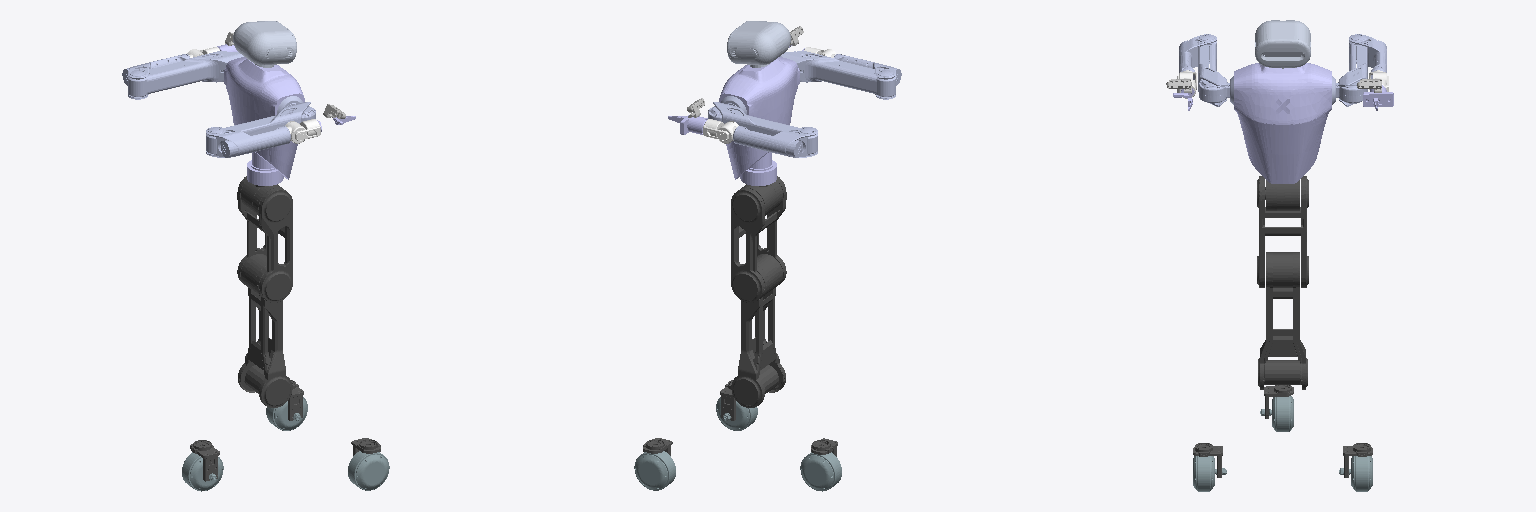
--- What the picture shows (computed from the rendered views, not written in the file) ---
Views: 3 orthographic renders of the robot side by side, from view 1: azimuth 30°, elevation 25°; view 2: azimuth 150°, elevation 25°; view 3: azimuth 270°, elevation 25°.
Robot: r1_v2_1_0 — 34 links, 33 joints (19 revolute, 3 continuous, 4 prismatic, 7 fixed); root link base_link; default pose: all joints at 0.
Visible links, largest first — view 1: torso_link4, torso_link1, torso_link2, left_arm_link2, zed_link, right_arm_link3, wheel_motor_link2, right_arm_link2, wheel_motor_link3, wheel_motor_link1, steer_motor_link3, left_arm_link3 (+1 smaller); view 2: torso_link4, torso_link1, torso_link2, right_arm_link2, zed_link, left_arm_link3, wheel_motor_link1, wheel_motor_link3, left_arm_link2, wheel_motor_link2, right_arm_link3, torso_link3; view 3: torso_link4, torso_link1, zed_link, torso_link2, torso_link3, right_arm_link2, left_arm_link2, wheel_motor_link3, wheel_motor_link1, wheel_motor_link2, left_arm_link3, right_arm_link3 (+1 smaller).
Link boxes in pixels (x1=…): torso_link4: x1=224, y1=57, x2=304, y2=185; torso_link1: x1=238, y1=254, x2=292, y2=407; torso_link2: x1=237, y1=176, x2=292, y2=302; left_arm_link2: x1=128, y1=51, x2=243, y2=96; zed_link: x1=233, y1=21, x2=296, y2=67; right_arm_link3: x1=206, y1=126, x2=290, y2=157; wheel_motor_link2: x1=348, y1=451, x2=389, y2=490; right_arm_link2: x1=206, y1=102, x2=310, y2=154; wheel_motor_link3: x1=182, y1=452, x2=223, y2=491; wheel_motor_link1: x1=266, y1=397, x2=307, y2=430; steer_motor_link3: x1=190, y1=440, x2=219, y2=481; left_arm_link3: x1=122, y1=54, x2=189, y2=99; torso_link4: x1=719, y1=57, x2=799, y2=185; torso_link1: x1=731, y1=254, x2=785, y2=407; torso_link2: x1=731, y1=176, x2=786, y2=302; right_arm_link2: x1=780, y1=51, x2=895, y2=96; zed_link: x1=727, y1=21, x2=790, y2=67; left_arm_link3: x1=733, y1=126, x2=817, y2=157; wheel_motor_link1: x1=634, y1=451, x2=675, y2=490; wheel_motor_link3: x1=800, y1=452, x2=841, y2=491; left_arm_link2: x1=713, y1=102, x2=817, y2=154; wheel_motor_link2: x1=716, y1=397, x2=757, y2=430; right_arm_link3: x1=834, y1=54, x2=901, y2=99; torso_link3: x1=741, y1=180, x2=782, y2=215; torso_link4: x1=1234, y1=63, x2=1331, y2=183; torso_link1: x1=1258, y1=252, x2=1307, y2=389; zed_link: x1=1255, y1=20, x2=1310, y2=68; torso_link2: x1=1257, y1=176, x2=1308, y2=287; torso_link3: x1=1265, y1=180, x2=1299, y2=210; right_arm_link2: x1=1198, y1=41, x2=1226, y2=106; left_arm_link2: x1=1339, y1=41, x2=1367, y2=106; wheel_motor_link3: x1=1260, y1=396, x2=1293, y2=431; wheel_motor_link1: x1=1339, y1=456, x2=1372, y2=491; wheel_motor_link2: x1=1193, y1=456, x2=1226, y2=491; left_arm_link3: x1=1349, y1=34, x2=1386, y2=78; right_arm_link3: x1=1179, y1=34, x2=1216, y2=79.
Size in the robot's own frame: 0.7034 by 0.8049 by 1.7 metres.
30 mesh visuals loaded from 34 distinct referenced files (30 binary STL); not drawn: 4 (reference not matched to a file when rendering).

robot.urdf — r1_v2_1_0:
<?xml version="1.0" encoding="utf-8"?>
<!-- This URDF was automatically created by SolidWorks to URDF Exporter! Originally created by Stephen Brawner ([email redacted]) 
     Commit Version: 1.6.0-4-g7f85cfe  Build Version: 1.6.7995.38578
     For more information, please see http://wiki.ros.org/sw_urdf_exporter -->
<robot
  name="r1_v2_1_0">
  <link
    name="base_link">
    <inertial>
      <origin
        xyz="-0.0024126 -8.9626E-05 0.13736"
        rpy="0 0 0" />
      <mass
        value="47.63" />
      <inertia
        ixx="1.578"
        ixy="-1.2021E-05"
        ixz="0.053642"
        iyy="1.462"
        iyz="7.297E-06"
        izz="2.8318" />
    </inertial>
    <visual>
      <origin
        xyz="0 0 0"
        rpy="0 0 0" />
      <geometry>
        <mesh
          filename="package://r1_v2_1_0/meshes/base_link.STL" />
      </geometry>
      <material
        name="">
        <color
          rgba="0.82353 0.82353 1 1" />
      </material>
    </visual>
    <collision>
      <origin
        xyz="0 0 0"
        rpy="0 0 0" />
      <geometry>
        <mesh
          filename="package://r1_v2_1_0/meshes/base_link.STL" />
      </geometry>
    </collision>
  </link>
  <link
    name="steer_motor_link1">
    <inertial>
      <origin
        xyz="0.00098921 -0.034312 -0.034597"
        rpy="0 0 0" />
      <mass
        value="1.2" />
      <inertia
        ixx="8.8522E-05"
        ixy="-3.7755E-06"
        ixz="4.5456E-09"
        iyy="7.5352E-05"
        iyz="-7.0316E-07"
        izz="0.00010165" />
    </inertial>
    <visual>
      <origin
        xyz="0 0 0"
        rpy="0 0 0" />
      <geometry>
        <mesh
          filename="package://r1_v2_1_0/meshes/steer_motor_link1.STL" />
      </geometry>
      <material
        name="">
        <color
          rgba="0.4 0.4 0.4 1" />
      </material>
    </visual>
    <collision>
      <origin
        xyz="0 0 0"
        rpy="0 0 0" />
      <geometry>
        <mesh
          filename="package://r1_v2_1_0/meshes/steer_motor_link1.STL" />
      </geometry>
    </collision>
  </link>
  <joint
    name="steer_motor_joint1"
    type="revolute">
    <origin
      xyz="0.21516 0.28 0.12375"
      rpy="0 0 0" />
    <parent
      link="base_link" />
    <child
      link="steer_motor_link1" />
    <axis
      xyz="0 0 1" />
    <limit
      lower="-1.5708"
      upper="1.5708"
      effort="44"
      velocity="3.1416" />
  </joint>
  <link
    name="wheel_motor_link1">
    <inertial>
      <origin
        xyz="-2.6184E-06 0.0015607 1.6575E-07"
        rpy="0 0 0" />
      <mass
        value="5" />
      <inertia
        ixx="0.00089952"
        ixy="6.916E-08"
        ixz="7.5501E-10"
        iyy="0.0015854"
        iyz="7.6011E-12"
        izz="0.00089958" />
    </inertial>
    <visual>
      <origin
        xyz="0 0 0"
        rpy="0 0 0" />
      <geometry>
        <mesh
          filename="package://r1_v2_1_0/meshes/wheel_motor_link1.STL" />
      </geometry>
      <material
        name="">
        <color
          rgba="0.59608 0.66667 0.68627 1" />
      </material>
    </visual>
    <collision>
      <origin
        xyz="0 0 0"
        rpy="0 0 0" />
      <geometry>
        <mesh
          filename="package://r1_v2_1_0/meshes/wheel_motor_link1.STL" />
      </geometry>
    </collision>
  </link>
  <joint
    name="wheel_motor_joint1"
    type="continuous">
    <origin
      xyz="0 0 -0.09525"
      rpy="0 0 0" />
    <parent
      link="steer_motor_link1" />
    <child
      link="wheel_motor_link1" />
    <axis
      xyz="0 1 0" />
  </joint>
  <link
    name="steer_motor_link2">
    <inertial>
      <origin
        xyz="0.00098879 0.034317 -0.034601"
        rpy="0 0 0" />
      <mass
        value="1.2" />
      <inertia
        ixx="8.8509E-05"
        ixy="3.7728E-06"
        ixz="4.584E-09"
        iyy="7.5337E-05"
        iyz="7.0145E-07"
        izz="0.00010162" />
    </inertial>
    <visual>
      <origin
        xyz="0 0 0"
        rpy="0 0 0" />
      <geometry>
        <mesh
          filename="package://r1_v2_1_0/meshes/steer_motor_link2.STL" />
      </geometry>
      <material
        name="">
        <color
          rgba="0.4 0.4 0.4 1" />
      </material>
    </visual>
    <collision>
      <origin
        xyz="0 0 0"
        rpy="0 0 0" />
      <geometry>
        <mesh
          filename="package://r1_v2_1_0/meshes/steer_motor_link2.STL" />
      </geometry>
    </collision>
  </link>
  <joint
    name="steer_motor_joint2"
    type="revolute">
    <origin
      xyz="0.21516 -0.28 0.12375"
      rpy="0 0 0" />
    <parent
      link="base_link" />
    <child
      link="steer_motor_link2" />
    <axis
      xyz="0 0 1" />
    <limit
      lower="-1.5708"
      upper="1.5708"
      effort="44"
      velocity="3.1416" />
  </joint>
  <link
    name="wheel_motor_link2">
    <inertial>
      <origin
        xyz="2.6199E-06 -0.0015607 1.6573E-07"
        rpy="0 0 0" />
      <mass
        value="5" />
      <inertia
        ixx="0.00089952"
        ixy="6.9163E-08"
        ixz="-7.5368E-10"
        iyy="0.0015854"
        iyz="-7.6749E-12"
        izz="0.00089958" />
    </inertial>
    <visual>
      <origin
        xyz="0 0 0"
        rpy="0 0 0" />
      <geometry>
        <mesh
          filename="package://r1_v2_1_0/meshes/wheel_motor_link2.STL" />
      </geometry>
      <material
        name="">
        <color
          rgba="0.59608 0.66667 0.68627 1" />
      </material>
    </visual>
    <collision>
      <origin
        xyz="0 0 0"
        rpy="0 0 0" />
      <geometry>
        <mesh
          filename="package://r1_v2_1_0/meshes/wheel_motor_link2.STL" />
      </geometry>
    </collision>
  </link>
  <joint
    name="wheel_motor_joint2"
    type="continuous">
    <origin
      xyz="0 0 -0.09525"
      rpy="0 0 0" />
    <parent
      link="steer_motor_link2" />
    <child
      link="wheel_motor_link2" />
    <axis
      xyz="0 1 0" />
  </joint>
  <link
    name="steer_motor_link3">
    <inertial>
      <origin
        xyz="-0.00098879 -0.034317 -0.034601"
        rpy="0 0 0" />
      <mass
        value="1.2" />
      <inertia
        ixx="8.8509E-05"
        ixy="3.7728E-06"
        ixz="-4.584E-09"
        iyy="7.5337E-05"
        iyz="-7.0145E-07"
        izz="0.00010162" />
    </inertial>
    <visual>
      <origin
        xyz="0 0 0"
        rpy="0 0 0" />
      <geometry>
        <mesh
          filename="package://r1_v2_1_0/meshes/steer_motor_link3.STL" />
      </geometry>
      <material
        name="">
        <color
          rgba="0.4 0.4 0.4 1" />
      </material>
    </visual>
    <collision>
      <origin
        xyz="0 0 0"
        rpy="0 0 0" />
      <geometry>
        <mesh
          filename="package://r1_v2_1_0/meshes/steer_motor_link3.STL" />
      </geometry>
    </collision>
  </link>
  <joint
    name="steer_motor_joint3"
    type="revolute">
    <origin
      xyz="-0.28084 0 0.12375"
      rpy="0 0 0" />
    <parent
      link="base_link" />
    <child
      link="steer_motor_link3" />
    <axis
      xyz="0 0 1" />
    <limit
      lower="-1.5708"
      upper="1.5708"
      effort="44"
      velocity="3.1416" />
  </joint>
  <link
    name="wheel_motor_link3">
    <inertial>
      <origin
        xyz="2.6203E-06 0.0015607 -1.6564E-07"
        rpy="0 0 0" />
      <mass
        value="5" />
      <inertia
        ixx="0.00089952"
        ixy="-6.9072E-08"
        ixz="7.5036E-10"
        iyy="0.0015854"
        iyz="-7.845E-12"
        izz="0.00089958" />
    </inertial>
    <visual>
      <origin
        xyz="0 0 0"
        rpy="0 0 0" />
      <geometry>
        <mesh
          filename="package://r1_v2_1_0/meshes/wheel_motor_link3.STL" />
      </geometry>
      <material
        name="">
        <color
          rgba="0.59608 0.66667 0.68627 1" />
      </material>
    </visual>
    <collision>
      <origin
        xyz="0 0 0"
        rpy="0 0 0" />
      <geometry>
        <mesh
          filename="package://r1_v2_1_0/meshes/wheel_motor_link3.STL" />
      </geometry>
    </collision>
  </link>
  <joint
    name="wheel_motor_joint3"
    type="continuous">
    <origin
      xyz="0 0 -0.09525"
      rpy="0 0 0" />
    <parent
      link="steer_motor_link3" />
    <child
      link="wheel_motor_link3" />
    <axis
      xyz="0 1 0" />
  </joint>
  <link
    name="torso_link1">
    <inertial>
      <origin
        xyz="0.00065636 0.0032247 0.23142"
        rpy="0 0 0" />
      <mass
        value="5.72" />
      <inertia
        ixx="0.10931"
        ixy="7.7893E-06"
        ixz="-0.00017473"
        iyy="0.10736"
        iyz="0.00013763"
        izz="0.0081222" />
    </inertial>
    <visual>
      <origin
        xyz="0 0 0"
        rpy="0 0 0" />
      <geometry>
        <mesh
          filename="package://r1_v2_1_0/meshes/torso_link1.STL" />
      </geometry>
      <material
        name="">
        <color
          rgba="0.37255 0.37255 0.37255 1" />
      </material>
    </visual>
    <collision>
      <origin
        xyz="0 0 0"
        rpy="0 0 0" />
      <geometry>
        <mesh
          filename="package://r1_v2_1_0/meshes/torso_link1.STL" />
      </geometry>
    </collision>
  </link>
  <joint
    name="torso_joint1"
    type="revolute">
    <origin
      xyz="-0.032845 0 0.301"
      rpy="0 0 0" />
    <parent
      link="base_link" />
    <child
      link="torso_link1" />
    <axis
      xyz="0 1 0" />
    <limit
      lower="-1.1345"
      upper="1.8326"
      effort="100"
      velocity="2.5" />
  </joint>
  <link
    name="torso_link2">
    <inertial>
      <origin
        xyz="0.0052517 0.014412 0.15711"
        rpy="0 0 0" />
      <mass
        value="3.5" />
      <inertia
        ixx="0.026081"
        ixy="-3.3406E-07"
        ixz="0.00024541"
        iyy="0.027574"
        iyz="3.8474E-07"
        izz="0.0018515" />
    </inertial>
    <visual>
      <origin
        xyz="0 0 0"
        rpy="0 0 0" />
      <geometry>
        <mesh
          filename="package://r1_v2_1_0/meshes/torso_link2.STL" />
      </geometry>
      <material
        name="">
        <color
          rgba="0.37255 0.37255 0.37255 1" />
      </material>
    </visual>
    <collision>
      <origin
        xyz="0 0 0"
        rpy="0 0 0" />
      <geometry>
        <mesh
          filename="package://r1_v2_1_0/meshes/torso_link2.STL" />
      </geometry>
    </collision>
  </link>
  <joint
    name="torso_joint2"
    type="revolute">
    <origin
      xyz="0 0 0.4"
      rpy="0 0 0" />
    <parent
      link="torso_link1" />
    <child
      link="torso_link2" />
    <axis
      xyz="0 1 0" />
    <limit
      lower="-2.7925"
      upper="2.5307"
      effort="100"
      velocity="2.5" />
  </joint>
  <link
    name="torso_link3">
    <inertial>
      <origin
        xyz="-7.551E-06 -0.0092667 0.0042124"
        rpy="0 0 0" />
      <mass
        value="3.4" />
      <inertia
        ixx="0.0014058"
        ixy="3.5487E-07"
        ixz="9.0955E-08"
        iyy="0.0021992"
        iyz="1.6338E-05"
        izz="0.0013332" />
    </inertial>
    <visual>
      <origin
        xyz="0 0 0"
        rpy="0 0 0" />
      <geometry>
        <mesh
          filename="package://r1_v2_1_0/meshes/torso_link3.STL" />
      </geometry>
      <material
        name="">
        <color
          rgba="0.37255 0.37255 0.37255 1" />
      </material>
    </visual>
    <collision>
      <origin
        xyz="0 0 0"
        rpy="0 0 0" />
      <geometry>
        <mesh
          filename="package://r1_v2_1_0/meshes/torso_link3.STL" />
      </geometry>
    </collision>
  </link>
  <joint
    name="torso_joint3"
    type="revolute">
    <origin
      xyz="0 0 0.3"
      rpy="0 0 0" />
    <parent
      link="torso_link2" />
    <child
      link="torso_link3" />
    <axis
      xyz="0 -1 0" />
    <limit
      lower="-1.8326"
      upper="1.5708"
      effort="100"
      velocity="2.5" />
  </joint>
  <link
    name="torso_link4">
    <inertial>
      <origin
        xyz="-3.7511E-08 5.2756E-07 0.018688"
        rpy="0 0 0" />
      <mass
        value="7.4" />
      <inertia
        ixx="0.0014989"
        ixy="2.9183E-08"
        ixz="-7.7884E-10"
        iyy="0.001499"
        iyz="-1.2513E-10"
        izz="0.0019043" />
    </inertial>
    <visual>
      <origin
        xyz="0 0 0"
        rpy="0 0 0" />
      <geometry>
        <mesh
          filename="package://r1_v2_1_0/meshes/torso_link4.STL" />
      </geometry>
      <material
        name="">
        <color
          rgba="0.82353 0.82353 1 1" />
      </material>
    </visual>
    <collision>
      <origin
        xyz="0 0 0"
        rpy="0 0 0" />
      <geometry>
        <mesh
          filename="package://r1_v2_1_0/meshes/torso_link4.STL" />
      </geometry>
    </collision>
  </link>
  <joint
    name="torso_joint4"
    type="revolute">
    <origin
      xyz="0 0 0.09962"
      rpy="0 0 0" />
    <parent
      link="torso_link3" />
    <child
      link="torso_link4" />
    <axis
      xyz="0 0 1" />
    <limit
      lower="-3.0543"
      upper="3.0543"
      effort="100"
      velocity="2.5" />
  </joint>
  <link
    name="zed_link">
    <inertial>
      <origin
        xyz="0.060004 0.015906 -0.068413"
        rpy="0 0 0" />
      <mass
        value="2.05" />
      <inertia
        ixx="0.010375"
        ixy="1.9044E-07"
        ixz="1.5997E-08"
        iyy="0.014618"
        iyz="0.00028961"
        izz="0.012229" />
    </inertial>
    <visual>
      <origin
        xyz="0 0 0"
        rpy="0 0 0" />
      <geometry>
        <mesh
          filename="package://r1_v2_1_0/meshes/zed_link.STL" />
      </geometry>
      <material
        name="">
        <color
          rgba="0.81176 0.84314 0.9098 1" />
      </material>
    </visual>
    <collision>
      <origin
        xyz="0 0 0"
        rpy="0 0 0" />
      <geometry>
        <mesh
          filename="package://r1_v2_1_0/meshes/zed_link.STL" />
      </geometry>
    </collision>
  </link>
  <joint
    name="zed_joint"
    type="fixed">
    <origin
      xyz="0.065512 0.060005 0.47598"
      rpy="-1.9199 0 -1.5708" />
    <parent
      link="torso_link4" />
    <child
      link="zed_link" />
    <axis
      xyz="0 0 0" />
  </joint>
  <link
    name="left_arm_base_link">
    <inertial>
      <origin
        xyz="-0.0005634 0.038934 3.1874E-06"
        rpy="0 0 0" />
      <mass
        value="1.658" />
      <inertia
        ixx="0.0010597"
        ixy="1.9821E-05"
        ixz="-1.6752E-07"
        iyy="0.0011787"
        iyz="-1.9146E-07"
        izz="0.0010647" />
    </inertial>
    <visual>
      <origin
        xyz="0 0 0"
        rpy="0 0 0" />
      <geometry>
        <mesh
          filename="package://r1_v2_1_0/meshes/left_arm_base_link.STL" />
      </geometry>
      <material
        name="">
        <color
          rgba="0.79216 0.81961 0.93333 1" />
      </material>
    </visual>
    <collision>
      <origin
        xyz="0 0 0"
        rpy="0 0 0" />
      <geometry>
        <mesh
          filename="package://r1_v2_1_0/meshes/left_arm_base_link.STL" />
      </geometry>
    </collision>
  </link>
  <joint
    name="left_arm_base_joint"
    type="fixed">
    <origin
      xyz="0.00077694 0.097234 0.30285"
      rpy="0 0 0" />
    <parent
      link="torso_link4" />
    <child
      link="left_arm_base_link" />
    <axis
      xyz="0 0 0" />
  </joint>
  <link
    name="left_arm_link1">
    <inertial>
      <origin
        xyz="0.000015 0.105259 -0.001954"
        rpy="0 0 0" />
      <mass
        value="1.164" />
      <inertia
        ixx="0.001125"
        ixy="0.0"
        ixz="0.0"
        iyy="0.001084"
        iyz="-0.000023"
        izz="0.001158" />
    </inertial>
    <visual>
      <origin
        xyz="0 0 0"
        rpy="0 0 0" />
      <geometry>
        <mesh
          filename="package://r1_v2_1_0/meshes/left_arm_link1.STL" />
      </geometry>
      <material
        name="">
        <color
          rgba="0.79216 0.81961 0.93333 1" />
      </material>
    </visual>
    <collision>
      <origin
        xyz="0 0 0"
        rpy="0 0 0" />
      <geometry>
        <mesh
          filename="package://r1_v2_1_0/meshes/left_arm_link1.STL" />
      </geometry>
    </collision>
  </link>
  <joint
    name="left_arm_joint1"
    type="revolute">
    <origin
      xyz="-0.0011149 0.0446 0"
      rpy="0 0 0" />
    <parent
      link="left_arm_base_link" />
    <child
      link="left_arm_link1" />
    <axis
      xyz="0 1 0" />
    <limit
      lower="-2.8798"
      upper="2.8798"
      effort="40"
      velocity="20.944" />
  </joint>
  <link
    name="left_arm_link2">
    <inertial>
      <origin
        xyz="-0.23622 0.016352 -0.00013275"
        rpy="0 0 0" />
      <mass
        value="1.3" />
      <inertia
        ixx="0.00060638"
        ixy="0.00041817"
        ixz="0.00014956"
        iyy="0.0075936"
        iyz="-8.0916E-06"
        izz="0.0075712" />
    </inertial>
    <visual>
      <origin
        xyz="0 0 0"
        rpy="0 0 0" />
      <geometry>
        <mesh
          filename="package://r1_v2_1_0/meshes/left_arm_link2.STL" />
      </geometry>
      <material
        name="">
        <color
          rgba="0.79216 0.81961 0.93333 1" />
      </material>
    </visual>
    <collision>
      <origin
        xyz="0 0 0"
        rpy="0 0 0" />
      <geometry>
        <mesh
          filename="package://r1_v2_1_0/meshes/left_arm_link2.STL" />
      </geometry>
    </collision>
  </link>
  <joint
    name="left_arm_joint2"
    type="revolute">
    <origin
      xyz="0 0.1061 0"
      rpy="0 0 0" />
    <parent
      link="left_arm_link1" />
    <child
      link="left_arm_link2" />
    <axis
      xyz="0 0 -1" />
    <limit
      lower="0"
      upper="3.2289"
      effort="40"
      velocity="20.944" />
  </joint>
  <link
    name="left_arm_link3">
    <inertial>
      <origin
        xyz="0.045114 0.054616 -0.00045593"
        rpy="0 0 0" />
      <mass
        value="0.818" />
      <inertia
        ixx="0.00060107"
        ixy="-0.00022467"
        ixz="-7.1194E-06"
        iyy="0.0013959"
        iyz="-9.7503E-06"
        izz="0.0015027" />
    </inertial>
    <visual>
      <origin
        xyz="0 0 0"
        rpy="0 0 0" />
      <geometry>
        <mesh
          filename="package://r1_v2_1_0/meshes/left_arm_link3.STL" />
      </geometry>
      <material
        name="">
        <color
          rgba="0.79216 0.81961 0.93333 1" />
      </material>
    </visual>
    <collision>
      <origin
        xyz="0 0 0"
        rpy="0 0 0" />
      <geometry>
        <mesh
          filename="package://r1_v2_1_0/meshes/left_arm_link3.STL" />
      </geometry>
    </collision>
  </link>
  <joint
    name="left_arm_joint3"
    type="revolute">
    <origin
      xyz="-0.34928 0.019998 0"
      rpy="0 0 0" />
    <parent
      link="left_arm_link2" />
    <child
      link="left_arm_link3" />
    <axis
      xyz="0 0 -1" />
    <limit
      lower="-3.3161"
      upper="0"
      effort="27"
      velocity="7.5398" />
  </joint>
  <link
    name="left_arm_link4">
    <inertial>
      <origin
        xyz="0.24285 0.0023784 1.279E-06"
        rpy="0 0 0" />
      <mass
        value="0.698" />
      <inertia
        ixx="8.45E-05"
        ixy="-8.2627E-07"
        ixz="-2.2607E-09"
        iyy="0.00010174"
        iyz="5.3612E-09"
        izz="9.7044E-05" />
    </inertial>
    <visual>
      <origin
        xyz="0 0 0"
        rpy="0 0 0" />
      <geometry>
        <mesh
          filename="package://r1_v2_1_0/meshes/left_arm_link4.STL" />
      </geometry>
      <material
        name="">
        <color
          rgba="1 1 1 1" />
      </material>
    </visual>
    <collision>
      <origin
        xyz="0 0 0"
        rpy="0 0 0" />
      <geometry>
        <mesh
          filename="package://r1_v2_1_0/meshes/left_arm_link4.STL" />
      </geometry>
    </collision>
  </link>
  <joint
    name="left_arm_joint4"
    type="revolute">
    <origin
      xyz="0.02735 0.069767 0"
      rpy="0 0 0" />
    <parent
      link="left_arm_link3" />
    <child
      link="left_arm_link4" />
    <axis
      xyz="1 0 0" />
    <limit
      lower="-2.8798"
      upper="2.8798"
      effort="7"
      velocity="25.133" />
  </joint>
  <link
    name="left_arm_link5">
    <inertial>
      <origin
        xyz="0.054309 0.0041811 4.0699E-06"
        rpy="0 0 0" />
      <mass
        value="0.417" />
      <inertia
        ixx="8.3999E-05"
        ixy="1.6234E-05"
        ixz="7.4127E-08"
        iyy="9.8498E-05"
        iyz="-1.3811E-08"
        izz="0.00011333" />
    </inertial>
    <visual>
      <origin
        xyz="0 0 0"
        rpy="0 0 0" />
      <geometry>
        <mesh
          filename="package://r1_v2_1_0/meshes/left_arm_link5.STL" />
      </geometry>
      <material
        name="">
        <color
          rgba="1 1 1 1" />
      </material>
    </visual>
    <collision>
      <origin
        xyz="0 0 0"
        rpy="0 0 0" />
      <geometry>
        <mesh
          filename="package://r1_v2_1_0/meshes/left_arm_link5.STL" />
      </geometry>
    </collision>
  </link>
  <joint
    name="left_arm_joint5"
    type="revolute">
    <origin
      xyz="0.2463 -0.00049894 0"
      rpy="0 0 0" />
    <parent
      link="left_arm_link4" />
    <child
      link="left_arm_link5" />
    <axis
      xyz="0 1 0" />
    <limit
      lower="-1.6581"
      upper="1.6581"
      effort="7"
      velocity="25.133" />
  </joint>
  <link
    name="left_arm_link6">
    <inertial>
      <origin
        xyz="0.028138 1.2134E-07 5.4049E-08"
        rpy="0 0 0" />
      <mass
        value="0.037" />
      <inertia
        ixx="3.5662E-06"
        ixy="6.6514E-12"
        ixz="2.9628E-12"
        iyy="2.0238E-06"
        iyz="-4.1666E-12"
        izz="2.0238E-06" />
    </inertial>
    <visual>
      <origin
        xyz="0 0 0"
        rpy="0 0 0" />
      <geometry>
        <mesh
          filename="package://r1_v2_1_0/meshes/left_arm_link6.STL" />
      </geometry>
      <material
        name="">
        <color
          rgba="0.82353 0.82353 1 1" />
      </material>
    </visual>
    <collision>
      <origin
        xyz="0 0 0"
        rpy="0 0 0" />
      <geometry>
        <mesh
          filename="package://r1_v2_1_0/meshes/left_arm_link6.STL" />
      </geometry>
    </collision>
  </link>
  <joint
    name="left_arm_joint6"
    type="revolute">
    <origin
      xyz="0.058249 0.00050025 0"
      rpy="0 0 0" />
    <parent
      link="left_arm_link5" />
    <child
      link="left_arm_link6" />
    <axis
      xyz="1 0 0" />
    <limit
      lower="-2.8798"
      upper="2.8798"
      effort="7"
      velocity="25.133" />
  </joint>
  <link
    name="left_realsense_link">
    <inertial>
      <origin
        xyz="0.022169 0.0060171 -0.017353"
        rpy="0 0 0" />
      <mass
        value="0.175" />
      <inertia
        ixx="6.965E-06"
        ixy="2.6612E-06"
        ixz="1.2797E-06"
        iyy="2.3281E-05"
        iyz="-1.4268E-06"
        izz="2.5513E-05" />
    </inertial>
    <visual>
      <origin
        xyz="0 0 0"
        rpy="0 0 0" />
      <geometry>
        <mesh
          filename="package://r1_v2_1_0/meshes/left_realsense_link.STL" />
      </geometry>
      <material
        name="">
        <color
          rgba="0.8 0.8 0.8 1" />
      </material>
    </visual>
    <collision>
      <origin
        xyz="0 0 0"
        rpy="0 0 0" />
      <geometry>
        <mesh
          filename="package://r1_v2_1_0/meshes/left_realsense_link.STL" />
      </geometry>
    </collision>
  </link>
  <joint
    name="left_realsense_joint"
    type="fixed">
    <origin
      xyz="0.098768 0.0021071 0.05055"
      rpy="-2.0071 0.0077831 -1.5708" />
    <parent
      link="left_arm_link6" />
    <child
      link="left_realsense_link" />
    <axis
      xyz="0 0 0" />
  </joint>
  <link
    name="left_gripper_link">
    <inertial>
      <origin
        xyz="-0.031107 -1.3893E-07 -1.437E-07"
        rpy="0 0 0" />
      <mass
        value="0.604" />
      <inertia
        ixx="0.00017588"
        ixy="4.1789E-10"
        ixz="-5.3493E-10"
        iyy="9.8637E-05"
        iyz="-8.1856E-08"
        izz="0.00016512" />
    </inertial>
    <visual>
      <origin
        xyz="0 0 0"
        rpy="0 0 0" />
      <geometry>
        <mesh
          filename="package://r1_v2_1_0/meshes/left_gripper_link.STL" />
      </geometry>
      <material
        name="">
        <color
          rgba="0.82353 0.82353 1 1" />
      </material>
    </visual>
    <collision>
      <origin
        xyz="0 0 0"
        rpy="0 0 0" />
      <geometry>
        <mesh
          filename="package://r1_v2_1_0/meshes/left_gripper_link.STL" />
      </geometry>
    </collision>
  </link>
  <joint
    name="left_gripper_joint"
    type="fixed">
    <origin
      xyz="0.1039 0 0"
      rpy="0 0 0" />
    <parent
      link="left_arm_link6" />
    <child
      link="left_gripper_link" />
    <axis
      xyz="0 0 0" />
  </joint>
  <link
    name="left_gripper_finger_link1">
    <inertial>
      <origin
        xyz="-0.019589 -0.015114 0.0054225"
        rpy="0 0 0" />
      <mass
        value="0.027" />
      <inertia
        ixx="2.4057E-06"
        ixy="3.9897E-07"
        ixz="5.1206E-08"
        iyy="5.7108E-06"
        iyz="6.1948E-08"
        izz="6.4849E-06" />
    </inertial>
    <visual>
      <origin
        xyz="0 0 0"
        rpy="0 0 0" />
      <geometry>
        <mesh
          filename="package://r1_v2_1_0/meshes/left_gripper_finger_link1.STL" />
      </geometry>
      <material
        name="">
        <color
          rgba="0.82353 0.82353 1 1" />
      </material>
    </visual>
    <collision>
      <origin
        xyz="0 0 0"
        rpy="0 0 0" />
      <geometry>
        <mesh
          filename="package://r1_v2_1_0/meshes/left_gripper_finger_link1.STL" />
      </geometry>
    </collision>
  </link>
  <joint
    name="left_gripper_finger_joint1"
    type="prismatic">
    <origin
      xyz="0.03689 0.013453 0.00012067"
      rpy="0 0 0" />
    <parent
      link="left_gripper_link" />
    <child
      link="left_gripper_finger_link1" />
    <axis
      xyz="0 1 0" />
    <limit
      lower="0"
      upper="0.05"
      effort="100"
      velocity="0.25" />
  </joint>
  <link
    name="left_gripper_finger_link2">
    <inertial>
      <origin
        xyz="-0.01959 0.015114 -0.0054226"
        rpy="0 0 0" />
      <mass
        value="0.027" />
      <inertia
        ixx="2.4057E-06"
        ixy="-3.99E-07"
        ixz="-5.1222E-08"
        iyy="5.7108E-06"
        iyz="6.1946E-08"
        izz="6.4849E-06" />
    </inertial>
    <visual>
      <origin
        xyz="0 0 0"
        rpy="0 0 0" />
      <geometry>
        <mesh
          filename="package://r1_v2_1_0/meshes/left_gripper_finger_link2.STL" />
      </geometry>
      <material
        name="">
        <color
          rgba="0.82353 0.82353 1 1" />
      </material>
    </visual>
    <collision>
      <origin
        xyz="0 0 0"
        rpy="0 0 0" />
      <geometry>
        <mesh
          filename="package://r1_v2_1_0/meshes/left_gripper_finger_link2.STL" />
      </geometry>
    </collision>
  </link>
  <joint
    name="left_gripper_finger_joint2"
    type="prismatic">
    <origin
      xyz="0.03689 -0.013453 -0.00012053"
      rpy="0 0 0" />
    <parent
      link="left_gripper_link" />
    <child
      link="left_gripper_finger_link2" />
    <axis
      xyz="0 -1 0" />
    <limit
      lower="0"
      upper="0.05"
      effort="100"
      velocity="0.25" />
  </joint>
  <link
    name="right_arm_base_link">
    <inertial>
      <origin
        xyz="-0.00056307 -0.038934 -3.1915E-06"
        rpy="0 0 0" />
      <mass
        value="1.658" />
      <inertia
        ixx="0.0010597"
        ixy="-1.9822E-05"
        ixz="1.6753E-07"
        iyy="0.0011787"
        iyz="-1.915E-07"
        izz="0.0010647" />
    </inertial>
    <visual>
      <origin
        xyz="0 0 0"
        rpy="0 0 0" />
      <geometry>
        <mesh
          filename="package://r1_v2_1_0/meshes/right_arm_base_link.STL" />
      </geometry>
      <material
        name="">
        <color
          rgba="0.79216 0.81961 0.93333 1" />
      </material>
    </visual>
    <collision>
      <origin
        xyz="0 0 0"
        rpy="0 0 0" />
      <geometry>
        <mesh
          filename="package://r1_v2_1_0/meshes/right_arm_base_link.STL" />
      </geometry>
    </collision>
  </link>
  <joint
    name="right_arm_base_joint"
    type="fixed">
    <origin
      xyz="0.00077778 -0.097235 0.30285"
      rpy="0 0 0" />
    <parent
      link="torso_link4" />
    <child
      link="right_arm_base_link" />
    <axis
      xyz="0 0 0" />
  </joint>
  <link
    name="right_arm_link1">
    <inertial>
      <origin
        xyz="0.000015 -0.105259 0.001954"
        rpy="0 0 0" />
      <mass
        value="1.164" />
      <inertia
        ixx="0.001125"
        ixy="0.0"
        ixz="0.0"
        iyy="0.001084"
        iyz="-0.000023"
        izz="0.001158" />
    </inertial>
    <visual>
      <origin
        xyz="0 0 0"
        rpy="0 0 0" />
      <geometry>
        <mesh
          filename="package://r1_v2_1_0/meshes/right_arm_link1.STL" />
      </geometry>
      <material
        name="">
        <color
          rgba="0.79216 0.81961 0.93333 1" />
      </material>
    </visual>
    <collision>
      <origin
        xyz="0 0 0"
        rpy="0 0 0" />
      <geometry>
        <mesh
          filename="package://r1_v2_1_0/meshes/right_arm_link1.STL" />
      </geometry>
    </collision>
  </link>
  <joint
    name="right_arm_joint1"
    type="revolute">
    <origin
      xyz="-0.0011145 -0.0446 0"
      rpy="0 0 0" />
    <parent
      link="right_arm_base_link" />
    <child
      link="right_arm_link1" />
    <axis
      xyz="0 -1 0" />
    <limit
      lower="-2.8798"
      upper="2.8798"
      effort="40"
      velocity="20.944" />
  </joint>
  <link
    name="right_arm_link2">
    <inertial>
      <origin
        xyz="-0.23622 -0.016354 0.00013183"
        rpy="0 0 0" />
      <mass
        value="1.3" />
      <inertia
        ixx="0.00060639"
        ixy="-0.00041823"
        ixz="-0.00014958"
        iyy="0.0075936"
        iyz="-8.0947E-06"
        izz="0.0075712" />
    </inertial>
    <visual>
      <origin
        xyz="0 0 0"
        rpy="0 0 0" />
      <geometry>
        <mesh
          filename="package://r1_v2_1_0/meshes/right_arm_link2.STL" />
      </geometry>
      <material
        name="">
        <color
          rgba="0.79216 0.81961 0.93333 1" />
      </material>
    </visual>
    <collision>
      <origin
        xyz="0 0 0"
        rpy="0 0 0" />
      <geometry>
        <mesh
          filename="package://r1_v2_1_0/meshes/right_arm_link2.STL" />
      </geometry>
    </collision>
  </link>
  <joint
    name="right_arm_joint2"
    type="revolute">
    <origin
      xyz="0 -0.1061 0"
      rpy="0 0 0" />
    <parent
      link="right_arm_link1" />
    <child
      link="right_arm_link2" />
    <axis
      xyz="0 0 1" />
    <limit
      lower="0"
      upper="3.2289"
      effort="40"
      velocity="20.944" />
  </joint>
  <link
    name="right_arm_link3">
    <inertial>
      <origin
        xyz="0.045115 -0.054616 0.00045613"
        rpy="0 0 0" />
      <mass
        value="0.818" />
      <inertia
        ixx="0.00060107"
        ixy="0.00022466"
        ixz="7.1148E-06"
        iyy="0.0013959"
        iyz="-9.7492E-06"
        izz="0.0015027" />
    </inertial>
    <visual>
      <origin
        xyz="0 0 0"
        rpy="0 0 0" />
      <geometry>
        <mesh
          filename="package://r1_v2_1_0/meshes/right_arm_link3.STL" />
      </geometry>
      <material
        name="">
        <color
          rgba="0.79216 0.81961 0.93333 1" />
      </material>
    </visual>
    <collision>
      <origin
        xyz="0 0 0"
        rpy="0 0 0" />
      <geometry>
        <mesh
          filename="package://r1_v2_1_0/meshes/right_arm_link3.STL" />
      </geometry>
    </collision>
  </link>
  <joint
    name="right_arm_joint3"
    type="revolute">
    <origin
      xyz="-0.34928 -0.020002 0"
      rpy="0 0 0" />
    <parent
      link="right_arm_link2" />
    <child
      link="right_arm_link3" />
    <axis
      xyz="0 0 1" />
    <limit
      lower="-3.3161"
      upper="0"
      effort="27"
      velocity="7.5398" />
  </joint>
  <link
    name="right_arm_link4">
    <inertial>
      <origin
        xyz="0.24285 -0.0023763 -3.4603E-07"
        rpy="0 0 0" />
      <mass
        value="0.694" />
      <inertia
        ixx="8.45E-05"
        ixy="8.2612E-07"
        ixz="2.2124E-09"
        iyy="0.00010174"
        iyz="5.3644E-09"
        izz="9.7044E-05" />
    </inertial>
    <visual>
      <origin
        xyz="0 0 0"
        rpy="0 0 0" />
      <geometry>
        <mesh
          filename="package://r1_v2_1_0/meshes/right_arm_link4.STL" />
      </geometry>
      <material
        name="">
        <color
          rgba="1 1 1 1" />
      </material>
    </visual>
    <collision>
      <origin
        xyz="0 0 0"
        rpy="0 0 0" />
      <geometry>
        <mesh
          filename="package://r1_v2_1_0/meshes/right_arm_link4.STL" />
      </geometry>
    </collision>
  </link>
  <joint
    name="right_arm_joint4"
    type="revolute">
    <origin
      xyz="0.02735 -0.069767 0"
      rpy="0 0 0" />
    <parent
      link="right_arm_link3" />
    <child
      link="right_arm_link4" />
    <axis
      xyz="1 0 0" />
    <limit
      lower="-2.8798"
      upper="2.8798"
      effort="7"
      velocity="25.133" />
  </joint>
  <link
    name="right_arm_link5">
    <inertial>
      <origin
        xyz="0.054309 -0.0041807 -3.8613E-06"
        rpy="0 0 0" />
      <mass
        value="0.417" />
      <inertia
        ixx="8.4E-05"
        ixy="-1.6234E-05"
        ixz="-7.4239E-08"
        iyy="9.8498E-05"
        iyz="-1.3874E-08"
        izz="0.00011333" />
    </inertial>
    <visual>
      <origin
        xyz="0 0 0"
        rpy="0 0 0" />
      <geometry>
        <mesh
          filename="package://r1_v2_1_0/meshes/right_arm_link5.STL" />
      </geometry>
      <material
        name="">
        <color
          rgba="1 1 1 1" />
      </material>
    </visual>
    <collision>
      <origin
        xyz="0 0 0"
        rpy="0 0 0" />
      <geometry>
        <mesh
          filename="package://r1_v2_1_0/meshes/right_arm_link5.STL" />
      </geometry>
    </collision>
  </link>
  <joint
    name="right_arm_joint5"
    type="revolute">
    <origin
      xyz="0.2463 0.00050106 0"
      rpy="0 0 0" />
    <parent
      link="right_arm_link4" />
    <child
      link="right_arm_link5" />
    <axis
      xyz="0 -1 0" />
    <limit
      lower="-1.6581"
      upper="1.6581"
      effort="7"
      velocity="25.133" />
  </joint>
  <link
    name="right_arm_link6">
    <inertial>
      <origin
        xyz="0.028138 1.2134E-07 5.405E-08"
        rpy="0 0 0" />
      <mass
        value="0.037" />
      <inertia
        ixx="3.5662E-06"
        ixy="6.6514E-12"
        ixz="2.9628E-12"
        iyy="2.0238E-06"
        iyz="-4.0687E-12"
        izz="2.0238E-06" />
    </inertial>
    <visual>
      <origin
        xyz="0 0 0"
        rpy="0 0 0" />
      <geometry>
        <mesh
          filename="package://r1_v2_1_0/meshes/right_arm_link6.STL" />
      </geometry>
      <material
        name="">
        <color
          rgba="0.82353 0.82353 1 1" />
      </material>
    </visual>
    <collision>
      <origin
        xyz="0 0 0"
        rpy="0 0 0" />
      <geometry>
        <mesh
          filename="package://r1_v2_1_0/meshes/right_arm_link6.STL" />
      </geometry>
    </collision>
  </link>
  <joint
    name="right_arm_joint6"
    type="revolute">
    <origin
      xyz="0.058249 -0.00049975 0"
      rpy="0 0 0" />
    <parent
      link="right_arm_link5" />
    <child
      link="right_arm_link6" />
    <axis
      xyz="1 0 0" />
    <limit
      lower="-2.8798"
      upper="2.8798"
      effort="7"
      velocity="25.133" />
  </joint>
  <link
    name="right_realsense_link">
    <inertial>
      <origin
        xyz="0.022169 0.0060171 -0.017353"
        rpy="0 0 0" />
      <mass
        value="0.175" />
      <inertia
        ixx="6.965E-06"
        ixy="2.6612E-06"
        ixz="1.2797E-06"
        iyy="2.3281E-05"
        iyz="-1.4268E-06"
        izz="2.5513E-05" />
    </inertial>
    <visual>
      <origin
        xyz="0 0 0"
        rpy="0 0 0" />
      <geometry>
        <mesh
          filename="package://r1_v2_1_0/meshes/right_realsense_link.STL" />
      </geometry>
      <material
        name="">
        <color
          rgba="0.8 0.8 0.8 1" />
      </material>
    </visual>
    <collision>
      <origin
        xyz="0 0 0"
        rpy="0 0 0" />
      <geometry>
        <mesh
          filename="package://r1_v2_1_0/meshes/right_realsense_link.STL" />
      </geometry>
    </collision>
  </link>
  <joint
    name="right_realsense_joint"
    type="fixed">
    <origin
      xyz="0.098762 0.0021071 0.05055"
      rpy="-2.0071 0.0077831 -1.5708" />
    <parent
      link="right_arm_link6" />
    <child
      link="right_realsense_link" />
    <axis
      xyz="0 0 0" />
  </joint>
  <link
    name="right_gripper_link">
    <inertial>
      <origin
        xyz="-0.031107240301242 -1.38928815840433E-07 -1.43700425780935E-07"
        rpy="0 0 0" />
      <mass
        value="0.604" />
      <inertia
        ixx="0.000175880119550986"
        ixy="4.17894263577595E-10"
        ixz="-5.34925118595879E-10"
        iyy="9.86374067070897E-05"
        iyz="-8.18555544397352E-08"
        izz="0.000165120109045834" />
    </inertial>
    <visual>
      <origin
        xyz="0 0 0"
        rpy="0 0 0" />
      <geometry>
        <mesh
          filename="package://r1_v2_1_0/meshes/right_gripper_link.STL" />
      </geometry>
      <material
        name="">
        <color
          rgba="0.823529411764706 0.823529411764706 1 1" />
      </material>
    </visual>
    <collision>
      <origin
        xyz="0 0 0"
        rpy="0 0 0" />
      <geometry>
        <mesh
          filename="package://r1_v2_1_0/meshes/right_gripper_link.STL" />
      </geometry>
    </collision>
  </link>
  <joint
    name="right_gripper_joint"
    type="fixed">
    <origin
      xyz="0.1039 0 0"
      rpy="0 0 0" />
    <parent
      link="right_arm_link6" />
    <child
      link="right_gripper_link" />
    <axis
      xyz="0 0 0" />
  </joint>
  <link
    name="right_gripper_finger_link1">
    <inertial>
      <origin
        xyz="-0.0195895587205407 0.0151136130965041 -0.00542255818128545"
        rpy="0 0 0" />
      <mass
        value="0.027" />
      <inertia
        ixx="2.40569063762433E-06"
        ixy="-3.99002073372071E-07"
        ixz="-5.12217975840564E-08"
        iyy="5.71082134562374E-06"
        iyz="6.19457183851545E-08"
        izz="6.4848556091919E-06" />
    </inertial>
    <visual>
      <origin
        xyz="0 0 0"
        rpy="0 0 0" />
      <geometry>
        <mesh
          filename="package://r1_v2_1_0/meshes/right_gripper_finger_link1.STL" />
      </geometry>
      <material
        name="">
        <color
          rgba="0.823529411764706 0.823529411764706 1 1" />
      </material>
    </visual>
    <collision>
      <origin
        xyz="0 0 0"
        rpy="0 0 0" />
      <geometry>
        <mesh
          filename="package://r1_v2_1_0/meshes/right_gripper_finger_link1.STL" />
      </geometry>
    </collision>
  </link>
  <joint
    name="right_gripper_finger_joint1"
    type="prismatic">
    <origin
      xyz="0.03689 -0.013453 -0.00012053"
      rpy="0 0 0" />
    <parent
      link="right_gripper_link" />
    <child
      link="right_gripper_finger_link1" />
    <axis
      xyz="0 -1 0" />
    <limit
      lower="0"
      upper="0.05"
      effort="100"
      velocity="0.25" />
  </joint>
  <link
    name="right_gripper_finger_link2">
    <inertial>
      <origin
        xyz="-0.019589448977496 -0.0151137821219537 0.00542248304315596"
        rpy="0 0 0" />
      <mass
        value="0.027" />
      <inertia
        ixx="2.40568339234574E-06"
        ixy="3.98973340378568E-07"
        ixz="5.12055978237686E-08"
        iyy="5.71082803574443E-06"
        iyz="6.19476812784019E-08"
        izz="6.48485579679143E-06" />
    </inertial>
    <visual>
      <origin
        xyz="0 0 0"
        rpy="0 0 0" />
      <geometry>
        <mesh
          filename="package://r1_v2_1_0/meshes/right_gripper_finger_link2.STL" />
      </geometry>
      <material
        name="">
        <color
          rgba="0.823529411764706 0.823529411764706 1 1" />
      </material>
    </visual>
    <collision>
      <origin
        xyz="0 0 0"
        rpy="0 0 0" />
      <geometry>
        <mesh
          filename="package://r1_v2_1_0/meshes/right_gripper_finger_link2.STL" />
      </geometry>
    </collision>
  </link>
  <joint
    name="right_gripper_finger_joint2"
    type="prismatic">
    <origin
      xyz="0.03689 0.013453 0.00012067"
      rpy="0 0 0" />
    <parent
      link="right_gripper_link" />
    <child
      link="right_gripper_finger_link2" />
    <axis
      xyz="0 1 0" />
    <limit
      lower="0"
      upper="0.05"
      effort="100"
      velocity="0.25" />
  </joint>
</robot>
